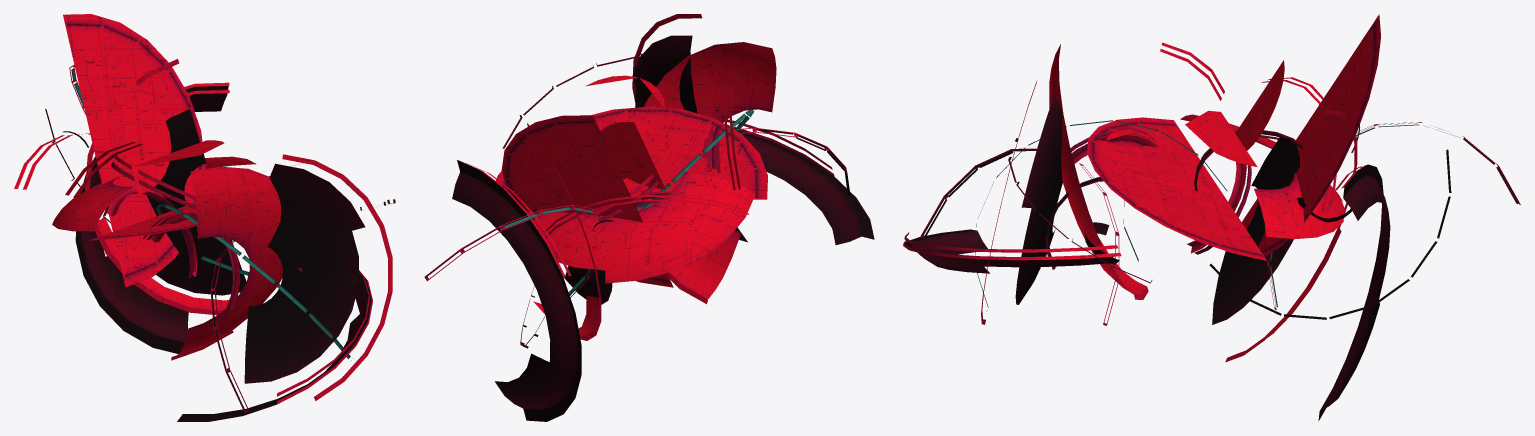
The model's file is MonsterB_Die15.obj.
The picture shows the model from 3 angles, left to right: view 1: azimuth 30°, elevation 25°; view 2: azimuth 150°, elevation 25°; view 3: azimuth 270°, elevation 25°; orthographic projection. The views are drawn at different scales.
Parts seen in each view (by area): view 1: Sphere001; view 2: Sphere001; view 3: Sphere001.
Part boxes in pixels (x1=…): Sphere001: x1=14, y1=14, x2=395, y2=421; Sphere001: x1=424, y1=14, x2=874, y2=421; Sphere001: x1=903, y1=14, x2=1520, y2=421.
Bounding box in the file's own units: 248 × 271 × 422.
1 material, 1 textured.
